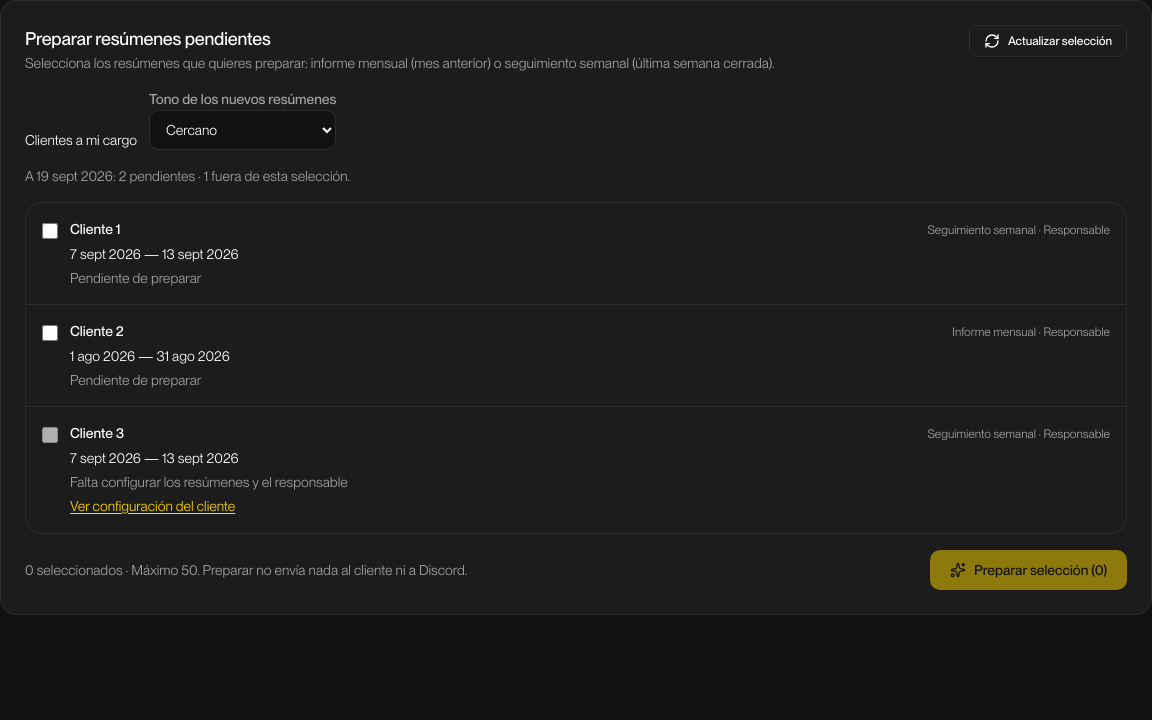
revision changes revoke selection and refresh never invents new selections
Click the checkbox named "Preparar Cliente 1 · Seguimiento semanal": [50, 231] box [42, 223, 58, 239]
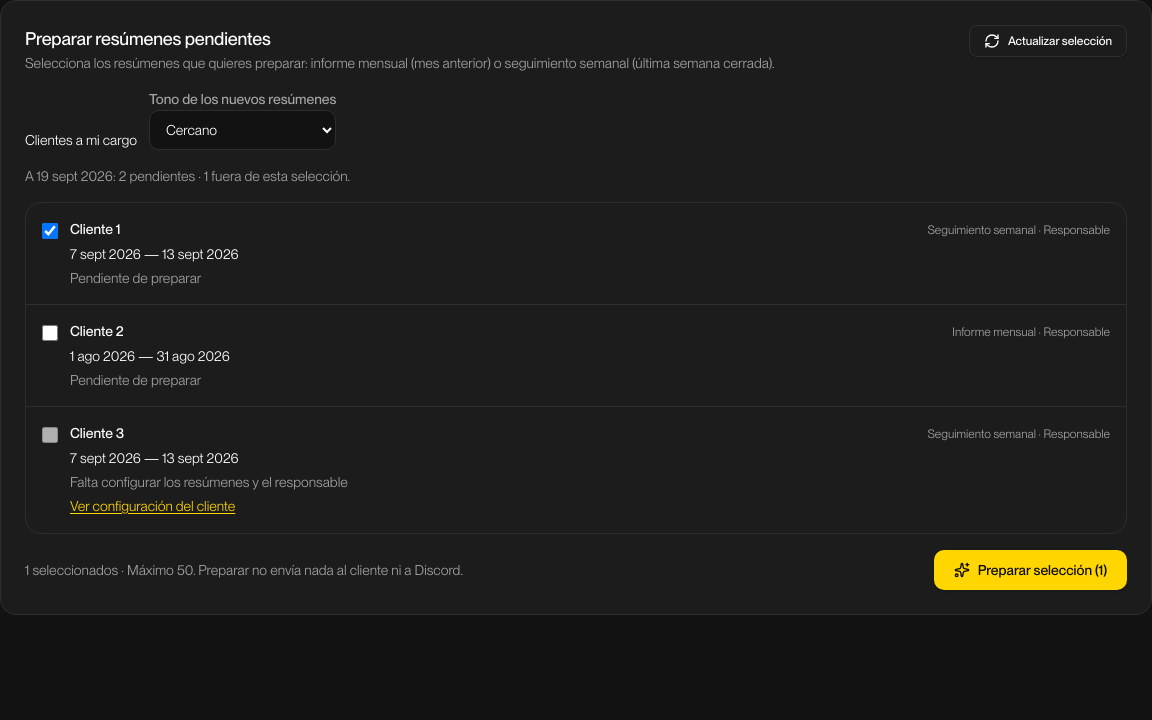
Click the button "Actualizar selección": [1048, 41] box [969, 25, 1127, 57]
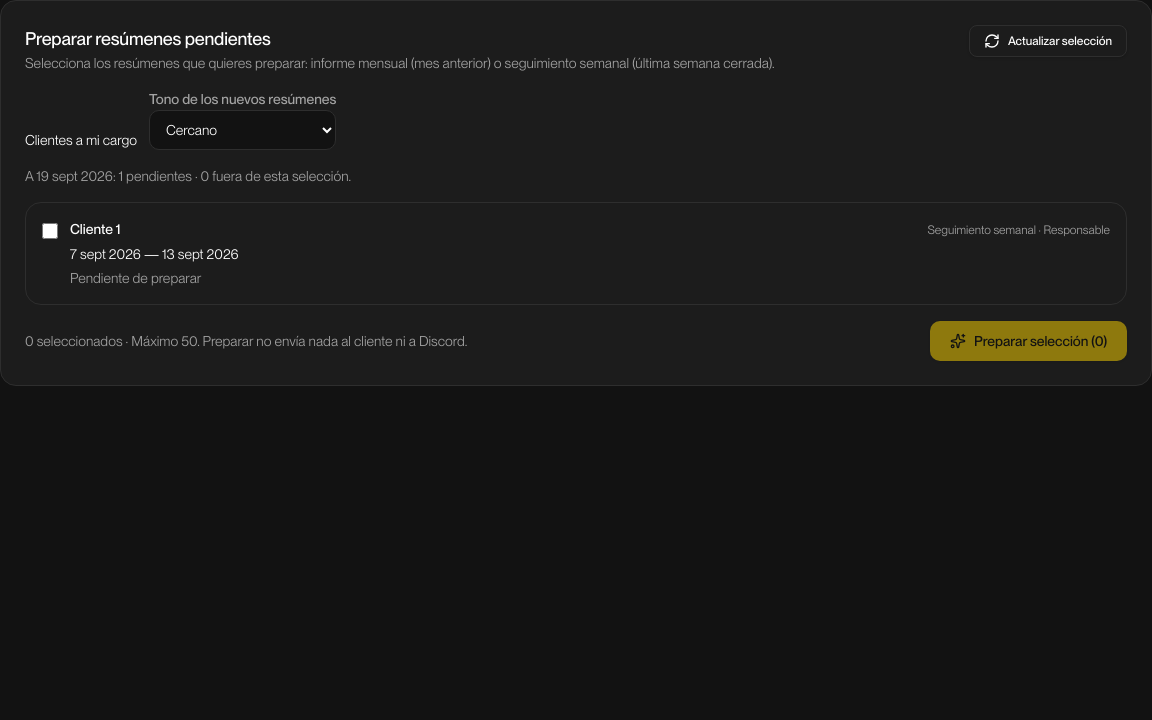
Expected: the checkbox named "Preparar Cliente 1 · Seguimiento semanal" is not checked, [42, 223, 58, 239]
